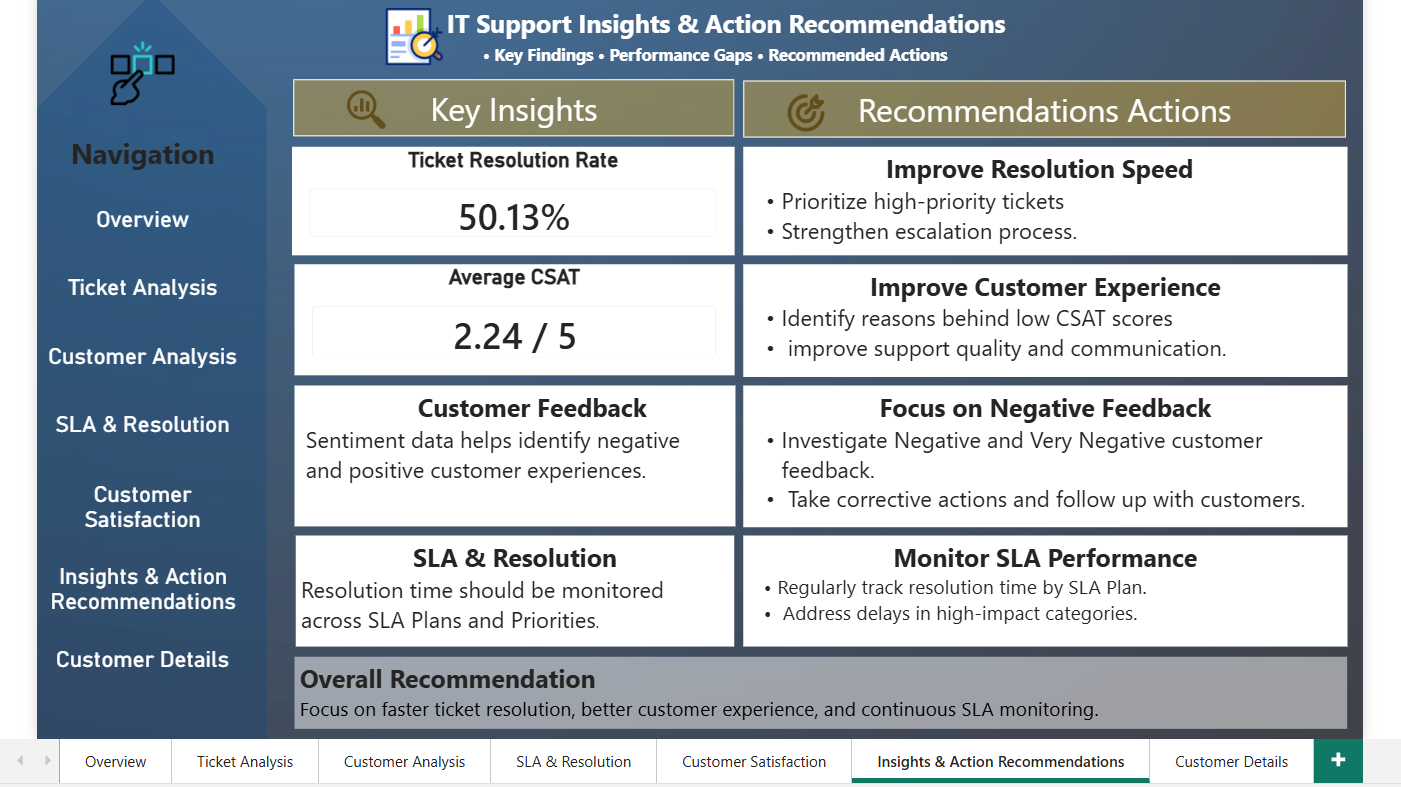

The page's visual inventory and layout, read from the dashboard file:
{"tool":"powerbi","page":{"name":"Insights & Action Recommendations","canvas":[1280,720],"ordinal":5},"visuals":[{"type":"shape","box":[0,0,222,720.2],"z":0},{"type":"textbox","box":[317.9,8.4,655.3,68.3],"z":1000},{"type":"textbox","box":[6.5,132.1,191.8,50.7],"z":2000},{"type":"actionButton","title":"                Overview","box":[5.3,206.3,194.2,42.2],"z":3000},{"type":"actionButton","title":"Ticket Analysis","box":[5.3,272.1,194.2,42.2],"z":4000},{"type":"actionButton","title":"Customer Analysis","box":[5.3,337.8,194.2,43.4],"z":5000},{"type":"actionButton","title":"SLA & Resolution ","box":[5.3,404.8,194.2,43.4],"z":6000},{"type":"actionButton","title":"Customer Satisfaction","box":[5.3,471.7,194.2,55.5],"z":7000},{"type":"actionButton","title":"Insights & Action Recommendations","box":[2.3,550.7,200.3,56.7],"z":8000},{"type":"image","box":[71.6,45.8,61.5,62.7],"z":9000},{"type":"actionButton","title":"Customer Details","box":[5.3,631,194.2,43.4],"z":10000},{"type":"image","box":[337.2,12.1,55.1,60.5],"z":11000},{"type":"image","box":[710.7,94,63.1,43],"z":12000},{"type":"image","box":[270,92.7,95.4,39],"z":13000},{"type":"shape","box":[682.1,84.6,581.7,55.1],"z":14000},{"type":"shape","box":[247.2,83.3,425.9,55.1],"z":15000},{"type":"cardVisual","title":"Ticket Resolution Rate","fields":{"Data":["Fact_Tickets.Resolution Rate %"]},"box":[246.5,148.1,427.2,104.8],"z":16000},{"type":"cardVisual","title":"Average CSAT","fields":{"Data":["Fact_Tickets.Avg CSAT Display"]},"box":[248.5,262,424.5,107.5],"z":17000},{"type":"textbox","box":[681.4,148.1,583,104.8],"z":18000},{"type":"textbox","box":[681.1,262,583,108.8],"z":19000},{"type":"textbox","box":[248.5,378.8,425.9,135.7],"z":20000},{"type":"textbox","box":[249.9,523.9,423.2,107.5],"z":21000},{"type":"textbox","box":[681.4,523.9,583,107.5],"z":22000},{"type":"textbox","box":[681.1,378.8,583,137],"z":23000},{"type":"textbox","box":[248.5,640.8,1015.6,69.9],"z":24000}]}

Visuals, with their boxes in screenshot pixels (x1, y1, x2, y2):
shape: <bbox>33, 0, 264, 739</bbox>
textbox: <bbox>364, 0, 1046, 69</bbox>
textbox: <bbox>40, 127, 239, 179</bbox>
"                Overview" actionButton: <bbox>38, 204, 241, 248</bbox>
"Ticket Analysis" actionButton: <bbox>38, 272, 241, 316</bbox>
"Customer Analysis" actionButton: <bbox>38, 341, 241, 386</bbox>
"SLA & Resolution " actionButton: <bbox>38, 410, 241, 456</bbox>
"Customer Satisfaction" actionButton: <bbox>38, 480, 241, 538</bbox>
"Insights & Action Recommendations" actionButton: <bbox>35, 562, 244, 621</bbox>
image: <bbox>107, 37, 171, 102</bbox>
"Customer Details" actionButton: <bbox>38, 646, 241, 691</bbox>
image: <bbox>384, 2, 441, 65</bbox>
image: <bbox>773, 87, 838, 132</bbox>
image: <bbox>314, 86, 413, 126</bbox>
shape: <bbox>743, 77, 1349, 134</bbox>
shape: <bbox>290, 76, 734, 133</bbox>
"Ticket Resolution Rate" cardVisual: <bbox>289, 143, 734, 252</bbox>
"Average CSAT" cardVisual: <bbox>292, 262, 734, 374</bbox>
textbox: <bbox>742, 143, 1349, 252</bbox>
textbox: <bbox>742, 262, 1349, 375</bbox>
textbox: <bbox>292, 383, 735, 525</bbox>
textbox: <bbox>293, 534, 734, 646</bbox>
textbox: <bbox>742, 534, 1349, 646</bbox>
textbox: <bbox>742, 383, 1349, 526</bbox>
textbox: <bbox>292, 656, 1349, 729</bbox>
